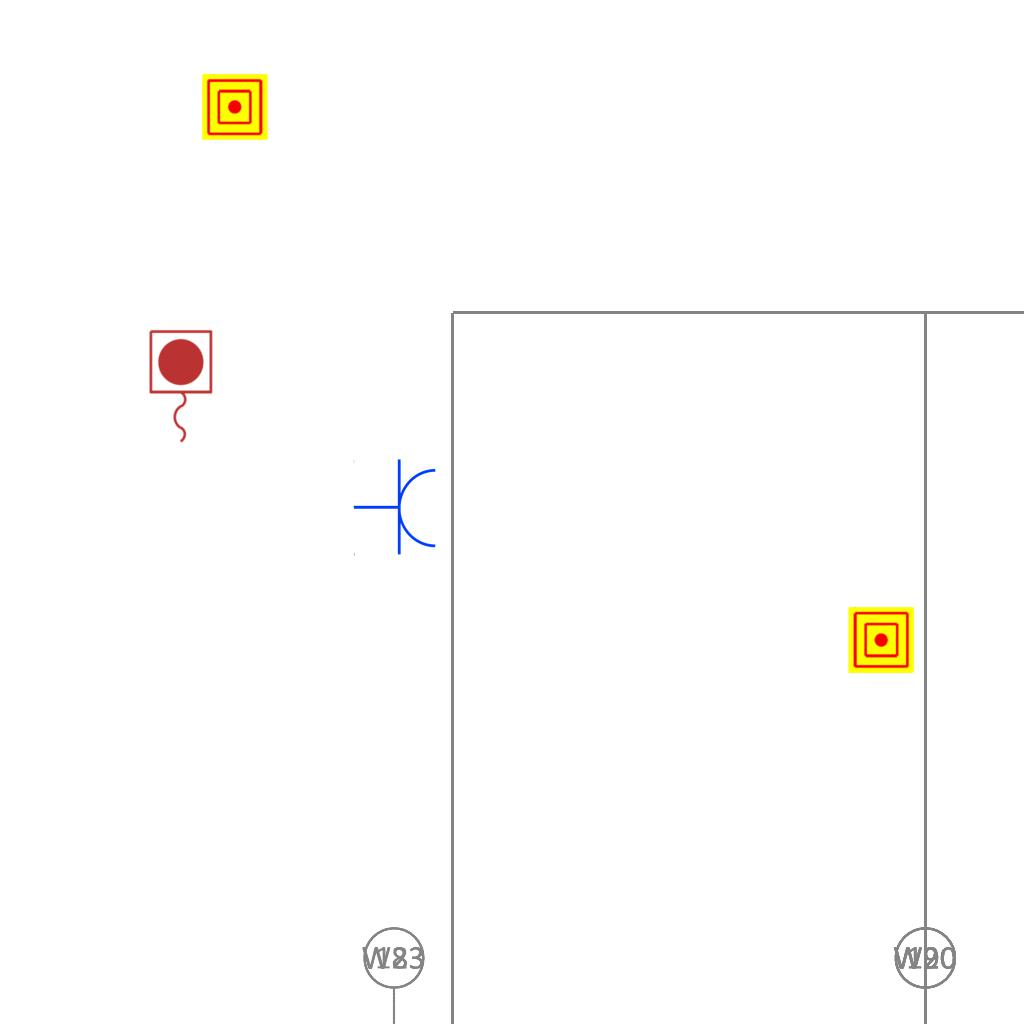NAM-Nichtautomatischer_Melder: (202, 74, 268, 140), (848, 607, 914, 673)
Schukosteckdose_einfach: (353, 458, 440, 558)
Zugtaster: (144, 326, 216, 448)
